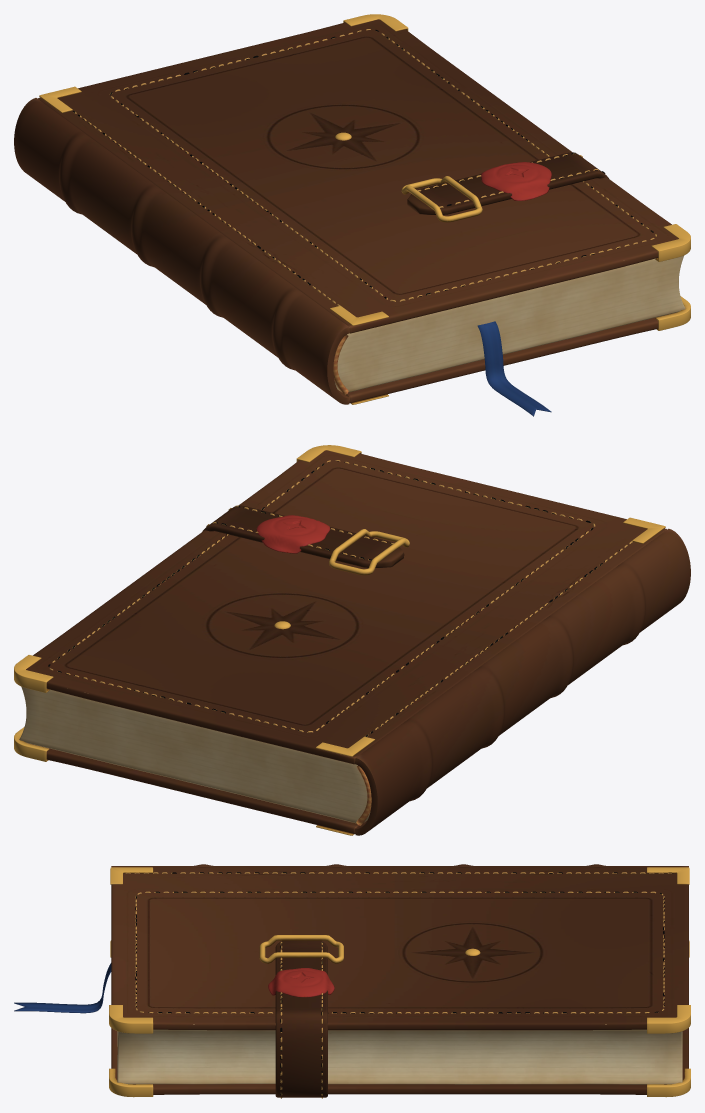
The model's file is adventurers_journal.glb.
3 renders of one model, top to bottom at view 1: azimuth 30°, elevation 25°; view 2: azimuth 150°, elevation 25°; view 3: azimuth 270°, elevation 25°, orthographic. The views are drawn at different scales.
Parts seen in each view (by area): view 1: Front_Cover, Spine, Pages, Strap, Back_Cover, Metal_Corners, Stitching, Wax_Seal, Ribbon_Bookmark, Clasp_Buckle; view 2: Front_Cover, Spine, Pages, Back_Cover, Strap, Metal_Corners, Stitching, Wax_Seal, Clasp_Buckle; view 3: Front_Cover, Pages, Strap, Back_Cover, Metal_Corners, Stitching, Wax_Seal, Spine, Clasp_Buckle, Ribbon_Bookmark.
Part boxes in pixels (box(x1,y1,x2,y2)): Front_Cover: box(37, 19, 678, 333); Spine: box(14, 98, 349, 404); Pages: box(334, 255, 685, 392); Strap: box(407, 152, 608, 214); Back_Cover: box(346, 313, 674, 403); Metal_Corners: box(39, 14, 690, 404); Stitching: box(73, 29, 656, 305); Wax_Seal: box(481, 162, 551, 200); Ribbon_Bookmark: box(477, 321, 551, 416); Clasp_Buckle: box(401, 176, 482, 222); Front_Cover: box(26, 450, 666, 764); Spine: box(355, 528, 690, 835); Pages: box(19, 686, 370, 823); Back_Cover: box(32, 744, 358, 833); Strap: box(202, 505, 404, 567); Metal_Corners: box(14, 445, 665, 835); Stitching: box(48, 460, 632, 736); Wax_Seal: box(256, 515, 330, 553); Clasp_Buckle: box(329, 529, 409, 575); Front_Cover: box(111, 868, 688, 1030); Pages: box(117, 1024, 682, 1084); Strap: box(275, 940, 327, 1097); Back_Cover: box(111, 1028, 688, 1094); Metal_Corners: box(109, 867, 690, 1097); Stitching: box(125, 872, 672, 1098); Wax_Seal: box(268, 968, 334, 997); Spine: box(111, 864, 688, 867); Clasp_Buckle: box(259, 935, 343, 963); Ribbon_Bookmark: box(14, 963, 111, 1013).
Bounding box in the file's own units: 0.1557 × 0.0383 × 0.2578.
1 material, 1 textured.
